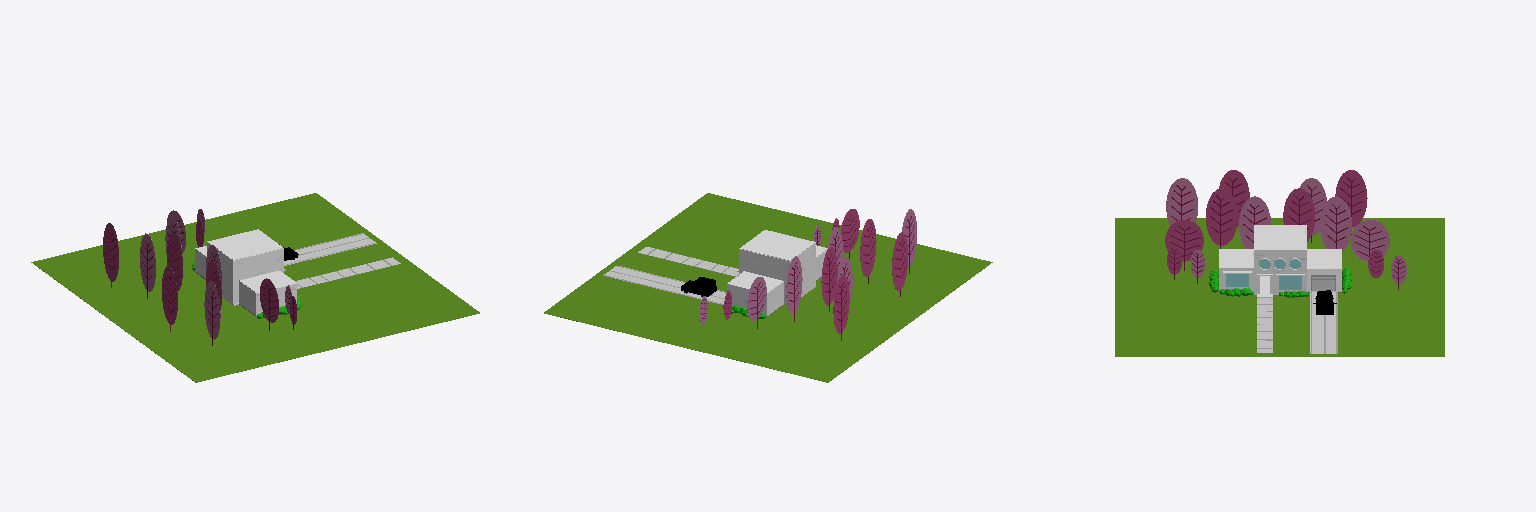
3 renders of one model, left to right at view 1: azimuth 30°, elevation 25°; view 2: azimuth 150°, elevation 25°; view 3: azimuth 270°, elevation 25°, orthographic.
Visible parts, largest first — view 1: pCube4, pasted__pasted__pasted__pasted__pasted__pCube2 pasted__pasted__p, pasted__pasted__pCube1 pasted__group4 group74, pasted__pasted__pasted__pasted__pasted__pasted__pCylinder1 paste, pCube6, pCube5, group52 pasted__pasted__pasted__pasted__pasted__pasted__pasted__, group52 pasted__group49 pasted__pasted__pasted__pasted__pasted__, group52 pasted__pasted__pasted__pasted__group45 pasted__pasted__, pasted__pasted__pasted__pasted__pasted__pasted__pasted__pasted__, pasted__pasted__pCube1 pasted__group group3; view 2: pCube4, pasted__pasted__pasted__pasted__pasted__pCube2 pasted__pasted__p, pCube6, pasted__pCube1 group4, pasted__pasted__pasted__pasted__pasted__pasted__pCylinder1 paste, pCube5, group52 pasted__pasted__pasted__pasted__pasted__pasted__pasted__, group49 pasted__pasted__pasted__pasted__pasted__pasted__pasted__, pasted__pasted__pasted__pasted__pasted__pasted__pasted__pasted__, pasted__pasted__pCube1 pasted__group group3, pasted__pasted__group45 pasted__group46 group47 pasted__pasted__, group52 pasted__group49 pasted__pasted__pasted__pasted__pasted__ (+1 smaller); view 3: pCube4, pasted__pasted__pasted__pasted__pasted__pCube2 pasted__pasted__p, pasted__pasted__pasted__pasted__pasted__pasted__pCylinder1 paste, pCube6, group_pasted__pCube1, group49 pasted__pasted__pasted__pasted__pasted__pasted__pasted__, pasted__pasted__group45 pasted__group46 group47 pasted__pasted__, pasted__pasted__pasted__group45 pasted__pasted__group46 pasted__, pasted__pasted__pasted__pasted__pasted__pasted__pasted__pasted__, group52 pasted__pasted__pasted__pasted__group45 pasted__pasted__, pasted__pasted__pasted__pasted__pasted__pasted__group45 pasted__, group52 pasted__group49 pasted__pasted__pasted__pasted__pasted__ (+4 smaller).
Boxes of the visible parts, x1=… form: pCube4: x1=31, y1=193, x2=479, y2=382; pasted__pasted__pasted__pasted__pasted__pCube2 pasted__pasted__p: x1=196, y1=229, x2=296, y2=293; pasted__pasted__pCube1 pasted__group4 group74: x1=233, y1=248, x2=283, y2=303; pasted__pasted__pasted__pasted__pasted__pasted__pCylinder1 paste: x1=140, y1=233, x2=182, y2=291; pCube6: x1=284, y1=233, x2=376, y2=265; pCube5: x1=295, y1=257, x2=400, y2=288; group52 pasted__pasted__pasted__pasted__pasted__pasted__pasted__: x1=162, y1=266, x2=218, y2=345; group52 pasted__group49 pasted__pasted__pasted__pasted__pasted__: x1=103, y1=223, x2=118, y2=281; group52 pasted__pasted__pasted__pasted__group45 pasted__pasted__: x1=204, y1=281, x2=220, y2=339; pasted__pasted__pasted__pasted__pasted__pasted__pasted__pasted__: x1=177, y1=220, x2=278, y2=322; pasted__pasted__pCube1 pasted__group group3: x1=207, y1=241, x2=233, y2=303; pCube4: x1=544, y1=193, x2=992, y2=382; pasted__pasted__pasted__pasted__pasted__pCube2 pasted__pasted__p: x1=740, y1=230, x2=827, y2=316; pCube6: x1=603, y1=266, x2=726, y2=304; pasted__pCube1 group4: x1=739, y1=249, x2=789, y2=303; pasted__pasted__pasted__pasted__pasted__pasted__pCylinder1 paste: x1=821, y1=247, x2=852, y2=305; pCube5: x1=638, y1=247, x2=738, y2=276; group52 pasted__pasted__pasted__pasted__pasted__pasted__pasted__: x1=892, y1=216, x2=914, y2=290; group49 pasted__pasted__pasted__pasted__pasted__pasted__pasted__: x1=860, y1=219, x2=876, y2=276; pasted__pasted__pasted__pasted__pasted__pasted__pasted__pasted__: x1=749, y1=209, x2=859, y2=328; pasted__pasted__pCube1 pasted__group group3: x1=790, y1=242, x2=815, y2=295; pasted__pasted__group45 pasted__group46 group47 pasted__pasted__: x1=786, y1=256, x2=802, y2=314; group52 pasted__group49 pasted__pasted__pasted__pasted__pasted__: x1=833, y1=275, x2=849, y2=333; pCube4: x1=1115, y1=218, x2=1444, y2=356; pasted__pasted__pasted__pasted__pasted__pCube2 pasted__pasted__p: x1=1219, y1=225, x2=1340, y2=292; pasted__pasted__pasted__pasted__pasted__pasted__pCylinder1 paste: x1=1283, y1=178, x2=1326, y2=241; pCube6: x1=1310, y1=292, x2=1337, y2=353; group_pasted__pCube1: x1=1254, y1=250, x2=1306, y2=293; group49 pasted__pasted__pasted__pasted__pasted__pasted__pasted__: x1=1206, y1=188, x2=1237, y2=245; pasted__pasted__group45 pasted__group46 group47 pasted__pasted__: x1=1320, y1=196, x2=1351, y2=251; pasted__pasted__pasted__group45 pasted__pasted__group46 pasted__: x1=1239, y1=185, x2=1323, y2=248; pasted__pasted__pasted__pasted__pasted__pasted__pasted__pasted__: x1=1165, y1=219, x2=1385, y2=261; group52 pasted__pasted__pasted__pasted__group45 pasted__pasted__: x1=1166, y1=178, x2=1197, y2=225; pasted__pasted__pasted__pasted__pasted__pasted__group45 pasted__: x1=1351, y1=219, x2=1389, y2=260; group52 pasted__group49 pasted__pasted__pasted__pasted__pasted__: x1=1335, y1=170, x2=1367, y2=226.
Size of the model in its own units: 31.66 by 7.04 by 31.66.
10 materials, 8 textured.